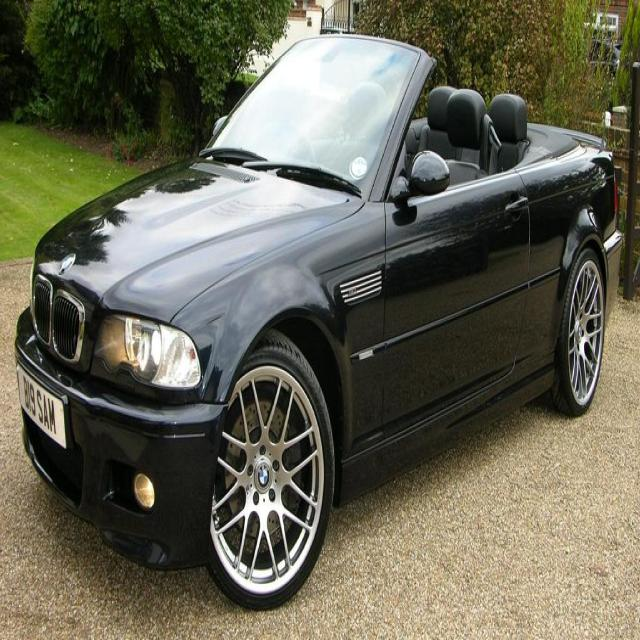car: (13, 27, 621, 610)
